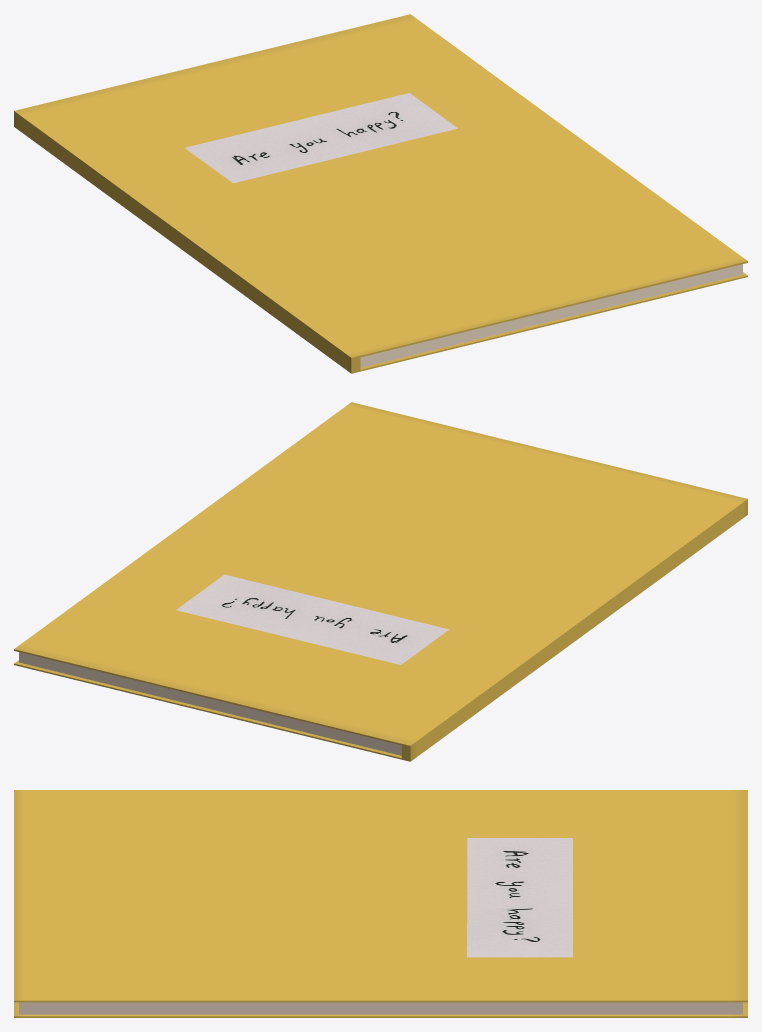
The model's file is Dosya.fbx.
The picture shows the model from 3 angles, top to bottom: view 1: azimuth 30°, elevation 25°; view 2: azimuth 150°, elevation 25°; view 3: azimuth 270°, elevation 25°; orthographic projection. The views are drawn at different scales.
Visible parts, largest first — view 1: Dosya; view 2: Dosya; view 3: Dosya.
Boxes of the visible parts, left/top/right/bottom form: Dosya: left=14, top=14, right=747, bottom=373; Dosya: left=14, top=402, right=747, bottom=761; Dosya: left=14, top=790, right=747, bottom=1017.
Size of the model in its own units: 136 by 5.2 by 200.
